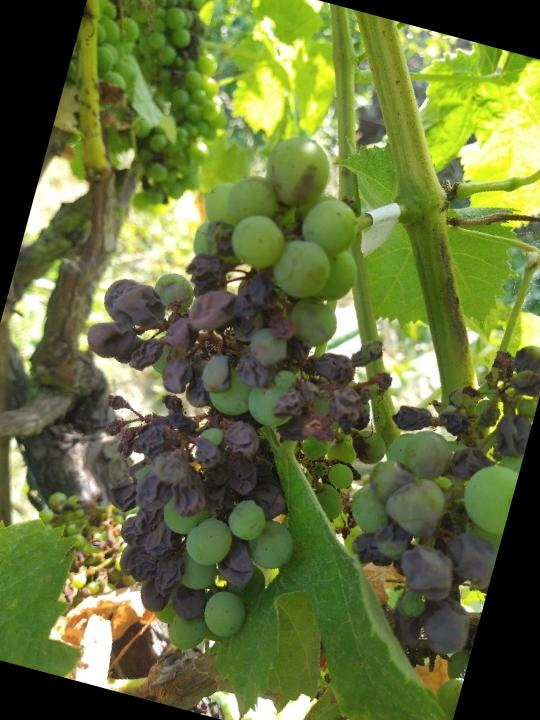grape: (14, 94, 458, 689), (53, 0, 251, 220)
